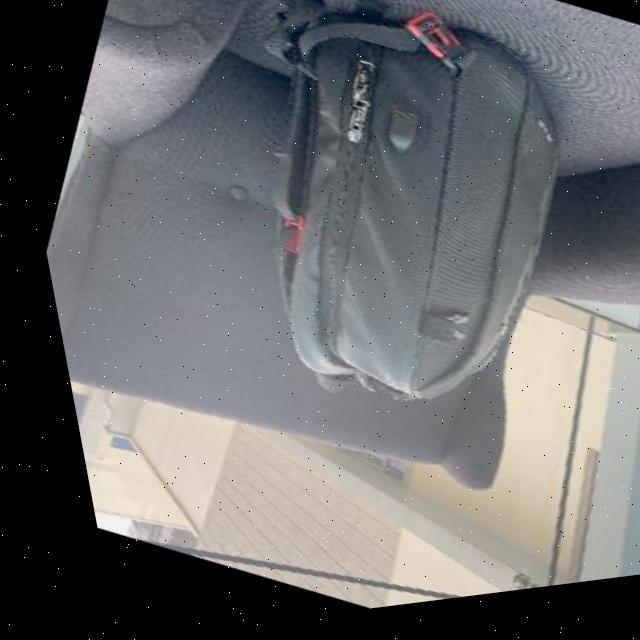canta: (132, 0, 638, 478)
